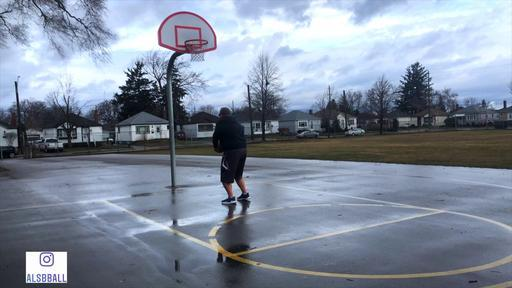human: (212, 106, 250, 204)
rim: (186, 39, 208, 62)
